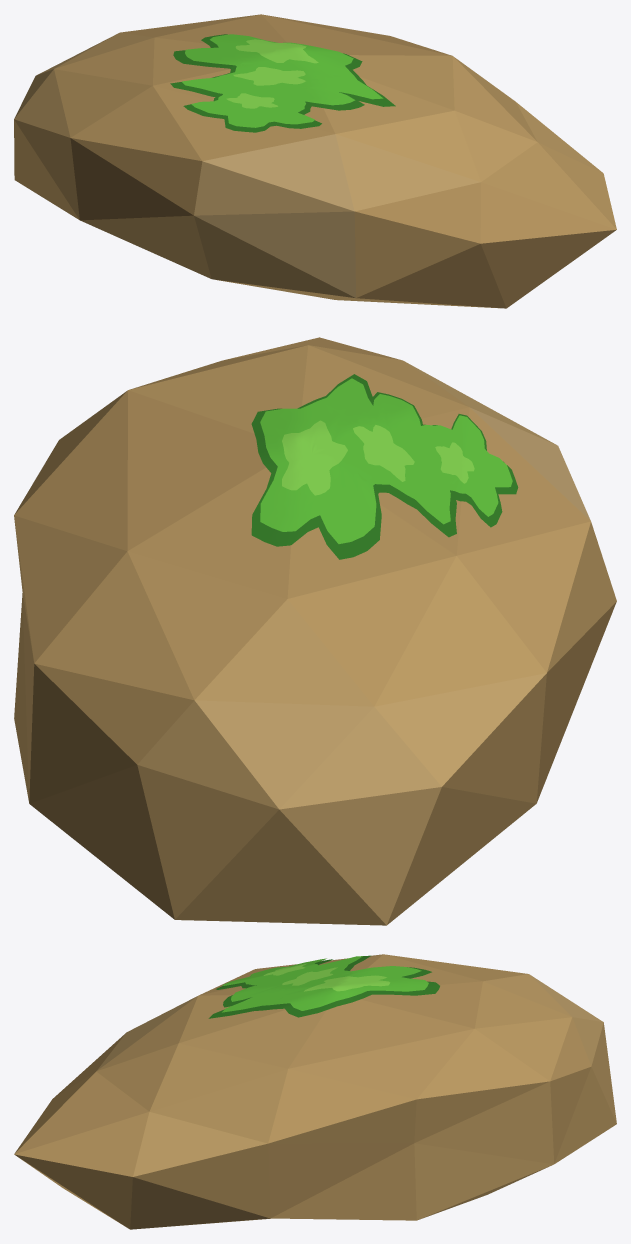
Rendered from rock_4_streak.glb.
The picture shows the model from 3 angles, top to bottom: view 1: azimuth 30°, elevation 25°; view 2: azimuth 150°, elevation 25°; view 3: azimuth 270°, elevation 25°; orthographic projection. The views are drawn at different scales.
Parts seen in each view (by area): view 1: rock_4_streak; view 2: rock_4_streak; view 3: rock_4_streak.
Part boxes in pixels (box(x1,y1,x2,y2)): rock_4_streak: box(14, 14, 616, 308); rock_4_streak: box(14, 337, 616, 925); rock_4_streak: box(14, 954, 616, 1229).
Bounding box in the file's own units: 1.62 × 0.7915 × 2.23.
